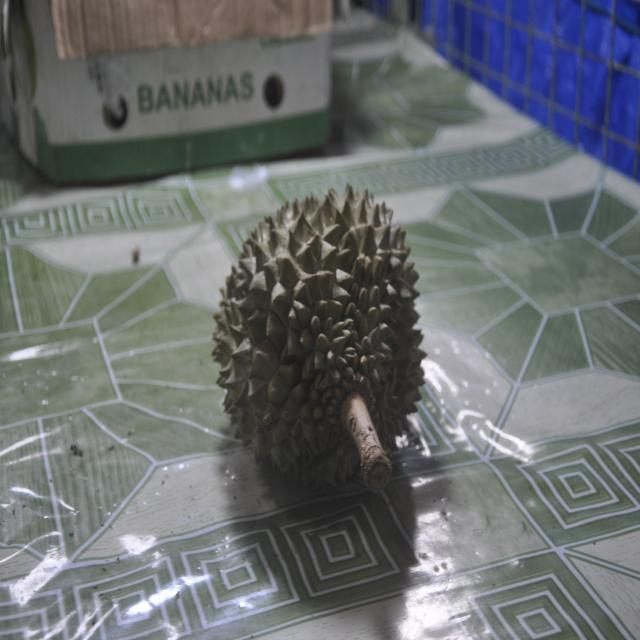mature: (192, 155, 463, 556)
